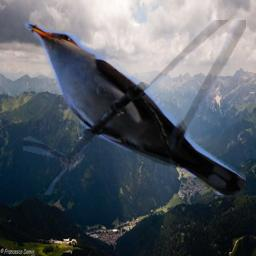Cuckoo: (23, 20, 246, 195)
